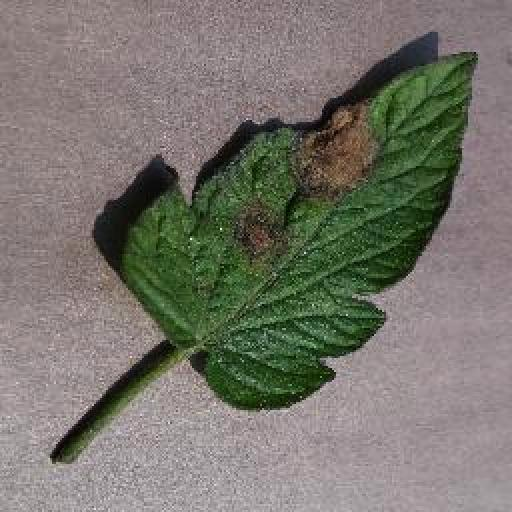disease_tomato: (118, 50, 480, 410)
